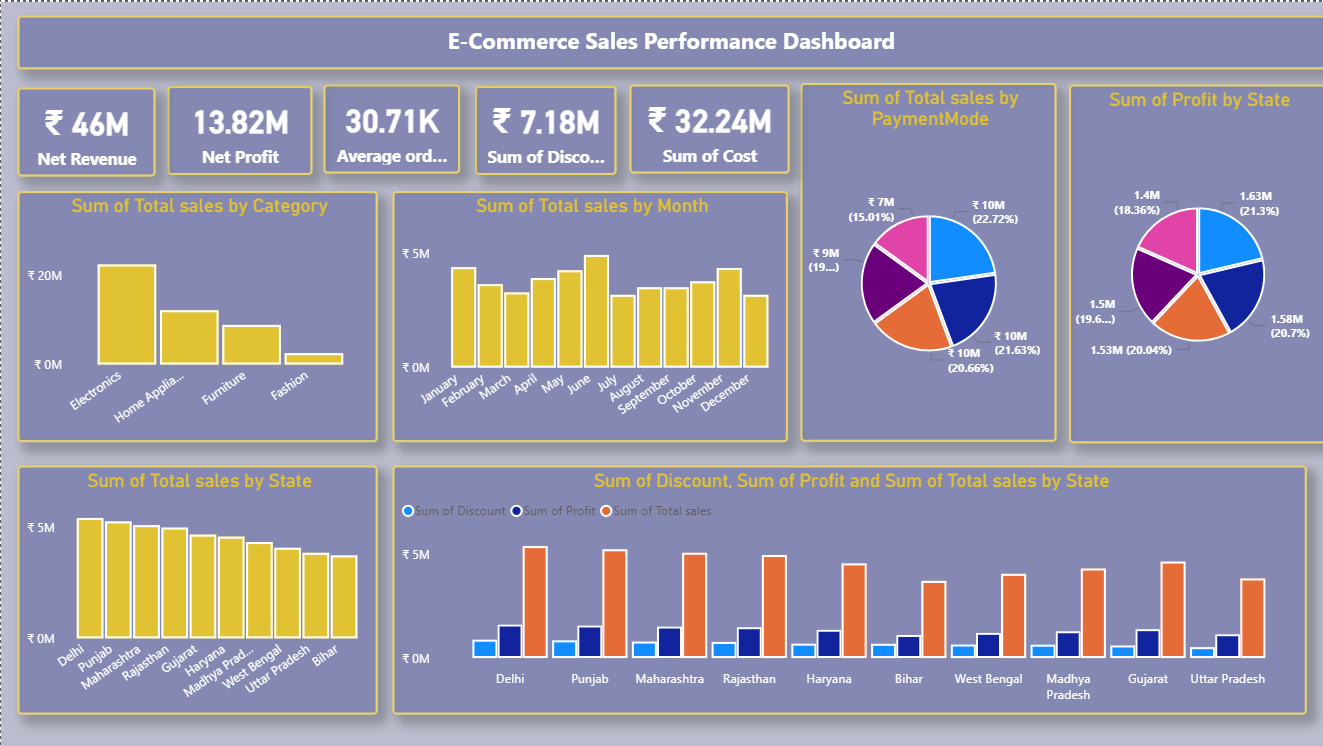

What the dashboard file says about the page in this screenshot:
{"tool":"powerbi","page":{"name":"Page 1","canvas":[1280,720],"ordinal":0},"visuals":[{"type":"card","fields":{"Values":["Sum(sales.Discount)"]},"box":[458.7,81.3,136.6,86.2],"z":0},{"type":"card","fields":{"Values":["sales.Net Profit"]},"box":[161,81.3,139.9,86.2],"z":1000},{"type":"card","fields":{"Values":["sales.Average order Value"]},"box":[312.3,79.7,131.8,86.2],"z":2000},{"type":"card","fields":{"Values":["sales.Net Revenue"]},"box":[16.3,83,133.4,86.2],"z":3000},{"type":"clusteredColumnChart","fields":{"Category":["sales.Category"],"Y":["Sum(sales.Total sales)"]},"box":[16.3,182.2,348.1,242.4],"z":4000},{"type":"clusteredColumnChart","fields":{"Y":["Sum(sales.Total sales)"],"Category":["sales.OrderDate.Variation.Date Hierarchy.Month"]},"box":[379,182.2,382.2,242.4],"z":5000},{"type":"clusteredColumnChart","fields":{"Category":["sales.State"],"Y":["Sum(sales.Total sales)"]},"box":[16.3,447.3,348.1,240.7],"z":6000},{"type":"textbox","box":[16.3,13,1263.8,52],"z":7000},{"type":"pieChart","fields":{"Category":["sales.PaymentMode"],"Y":["Sum(sales.Total sales)"]},"box":[772.6,78.1,247.2,346.5],"z":8000},{"type":"card","fields":{"Values":["Sum(sales.Cost)"]},"box":[606.7,79.7,154.5,86.2],"z":9000},{"type":"clusteredColumnChart","fields":{"Category":["sales.State"],"Y":["Sum(sales.Discount)","Sum(sales.Profit)","Sum(sales.Total sales)"]},"box":[379,447.3,883.2,240.7],"z":10000},{"type":"pieChart","fields":{"Category":["sales.State"],"Y":["Sum(sales.Profit)"]},"box":[1031.2,79.7,248.9,346.5],"z":11000}]}

Visuals, with their boxes in screenshot pixels (x1, y1, x2, y2), scaled from the page's 1280x720 canvas onto the 1323x746 screenshot:
card - Sum(sales.Discount): bbox(474, 84, 615, 174)
card - sales.Net Profit: bbox(166, 84, 311, 174)
card - sales.Average order Value: bbox(323, 83, 459, 172)
card - sales.Net Revenue: bbox(17, 86, 155, 175)
clusteredColumnChart - sales.Category x Sum(sales.Total sales): bbox(17, 189, 377, 440)
clusteredColumnChart - Sum(sales.Total sales) x sales.OrderDate.Variation.Date Hierarchy.Month: bbox(392, 189, 787, 440)
clusteredColumnChart - sales.State x Sum(sales.Total sales): bbox(17, 463, 377, 713)
textbox: bbox(17, 13, 1322, 67)
pieChart - sales.PaymentMode x Sum(sales.Total sales): bbox(799, 81, 1054, 440)
card - Sum(sales.Cost): bbox(627, 83, 787, 172)
clusteredColumnChart - sales.State x Sum(sales.Discount): bbox(392, 463, 1305, 713)
pieChart - sales.State x Sum(sales.Profit): bbox(1066, 83, 1322, 442)
